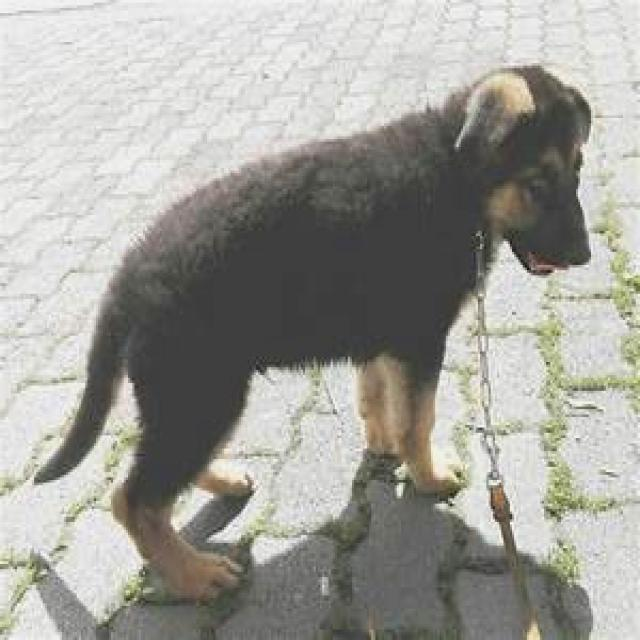FIL: (35, 55, 600, 602)
